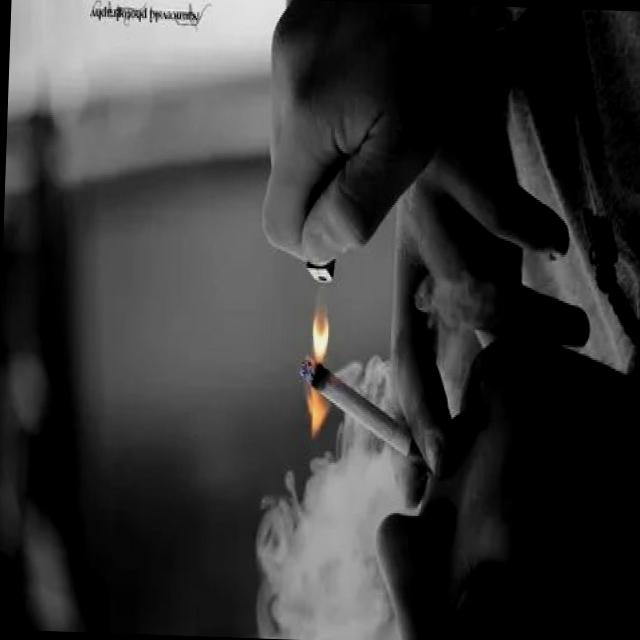cigarette: (293, 351, 434, 478)
